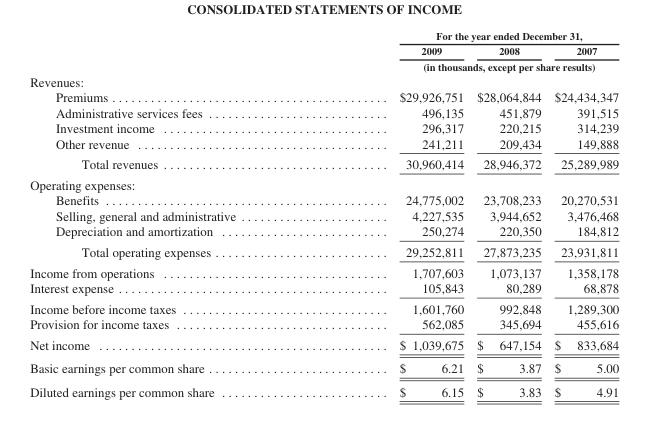table: (29, 29, 618, 398)
table column: (29, 29, 316, 398), (316, 29, 469, 398), (469, 29, 547, 398), (547, 29, 618, 398)
table column header: (29, 29, 618, 73)
table projected row header: (29, 174, 618, 192), (29, 73, 618, 88)
table row: (29, 356, 618, 379), (29, 334, 618, 356), (29, 153, 618, 174), (29, 241, 618, 261), (29, 261, 618, 280), (29, 379, 618, 398), (29, 135, 618, 153), (29, 174, 618, 192), (29, 223, 618, 241), (29, 280, 618, 298), (29, 298, 618, 316), (29, 316, 618, 334), (29, 88, 618, 104), (29, 119, 618, 135), (29, 207, 618, 223), (29, 43, 618, 58), (29, 58, 618, 73), (29, 73, 618, 88), (29, 104, 618, 119), (29, 192, 618, 207), (29, 29, 618, 43)
table spanning cell: (316, 58, 618, 73), (316, 29, 618, 43)
